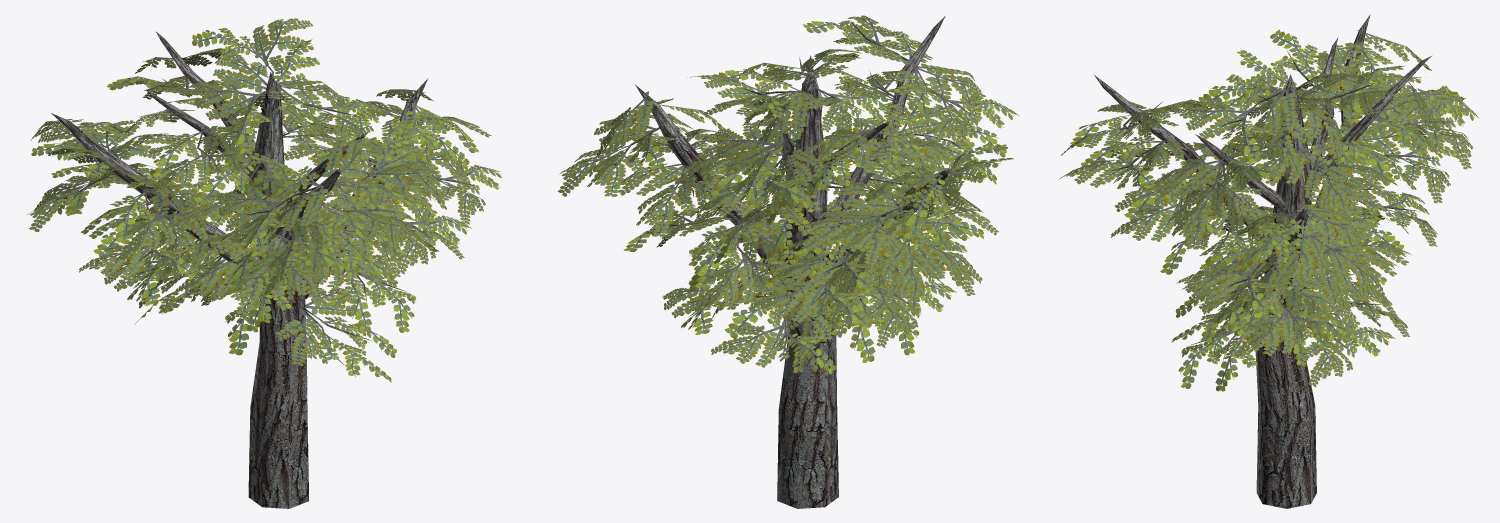
File: Tree_02_03.obj
3 views of the same model, side by side, from view 1: azimuth 30°, elevation 25°; view 2: azimuth 150°, elevation 25°; view 3: azimuth 270°, elevation 25° (orthographic). The views are drawn at different scales.
Visible parts, largest first — view 1: polySurface991; view 2: polySurface991; view 3: polySurface991.
Part boxes in pixels (x1=…): polySurface991: x1=27, y1=18, x2=501, y2=508; polySurface991: x1=557, y1=15, x2=1019, y2=508; polySurface991: x1=1060, y1=14, x2=1478, y2=508.
Size of the model in its own units: 169 by 162 by 149.
Materials: 1 (1 with a texture image).
